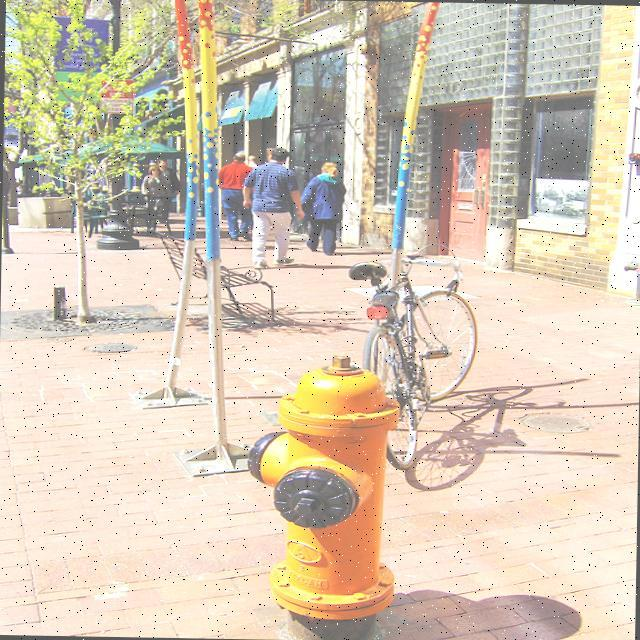fire_hydrant: (233, 354, 404, 616)
